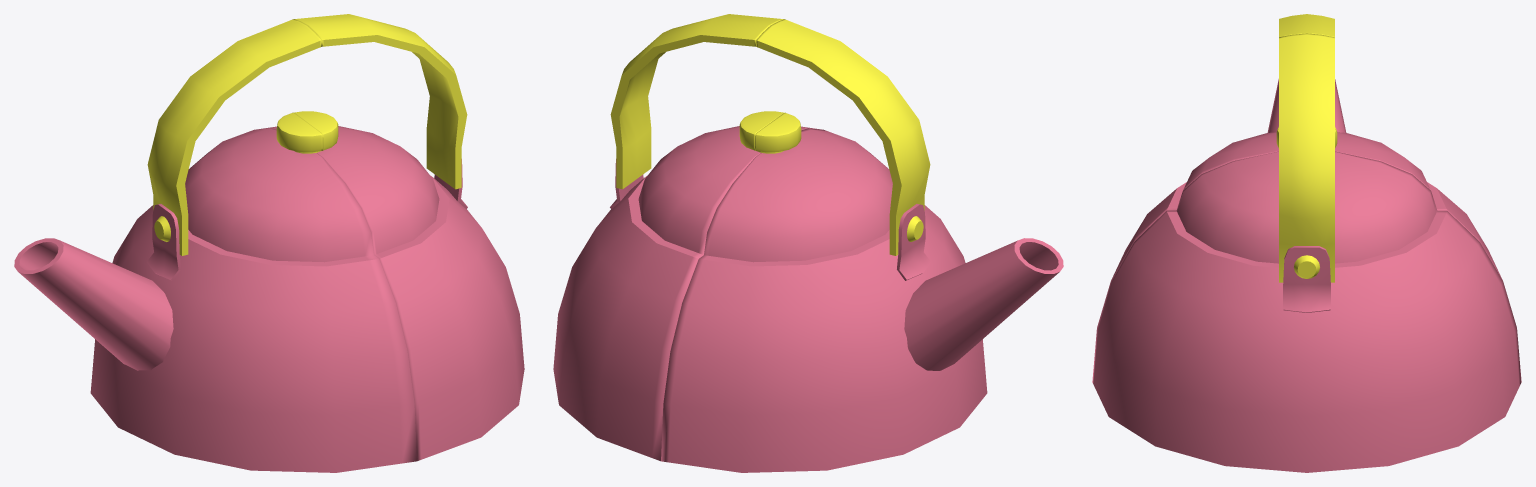
File: SM_Kettle_01a.fbx
The picture shows the model from 3 angles, left to right: view 1: azimuth 30°, elevation 25°; view 2: azimuth 150°, elevation 25°; view 3: azimuth 270°, elevation 25°; orthographic projection.
Parts seen in each view (by area): view 1: Kettle_02, Kettle_01; view 2: Kettle_02, Kettle_01; view 3: Kettle_01, Kettle_02.
Boxes of the visible parts, x1,y1,x2,y2 form: Kettle_02: [14, 19, 416, 472]; Kettle_01: [256, 14, 524, 461]; Kettle_02: [661, 19, 1063, 472]; Kettle_01: [553, 14, 821, 461]; Kettle_01: [1092, 33, 1521, 472]; Kettle_02: [1111, 14, 1502, 279].
Bounding box in the file's own units: 35.91 × 25.46 × 28.4.
